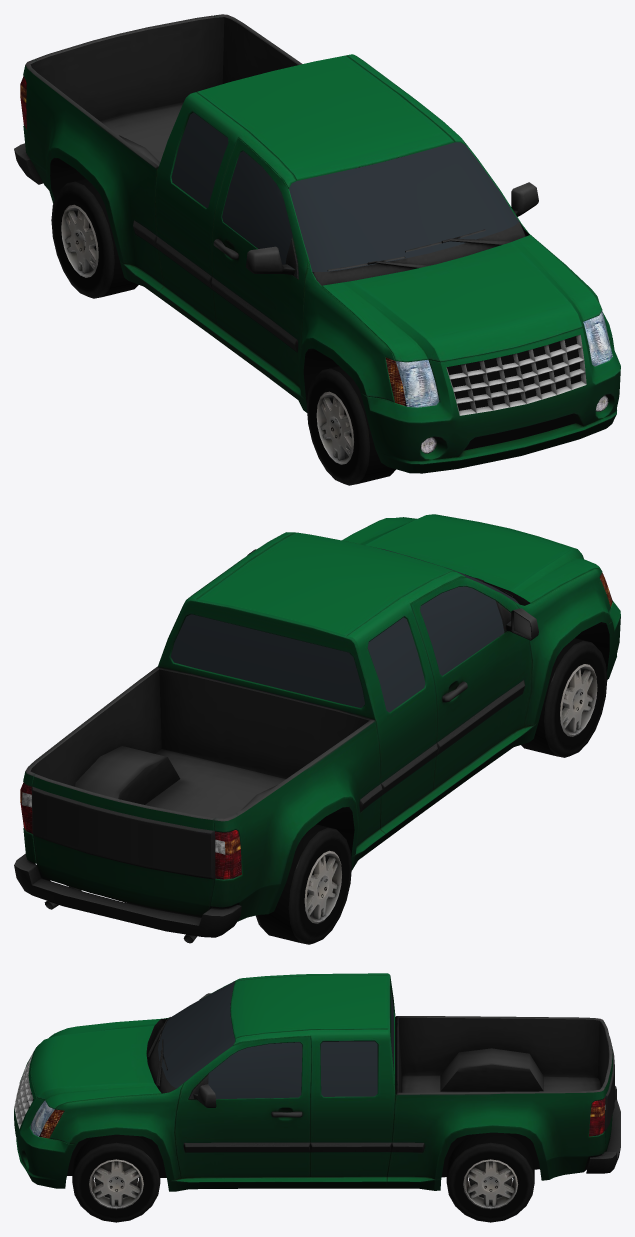
The model's file is car_pickup.gltf.
The picture shows the model from 3 angles, top to bottom: view 1: azimuth 30°, elevation 25°; view 2: azimuth 150°, elevation 25°; view 3: azimuth 270°, elevation 25°; orthographic projection. The views are drawn at different scales.
Parts seen in each view (by area): view 1: car_pickup; view 2: car_pickup; view 3: car_pickup.
Part boxes in pixels (<box>): car_pickup: <box>14,14,620,485</box>; car_pickup: <box>14,514,620,944</box>; car_pickup: <box>14,973,620,1222</box>.
Bounding box in the file's own units: 2.12 × 1.74 × 5.3.
1 material, 1 textured.
